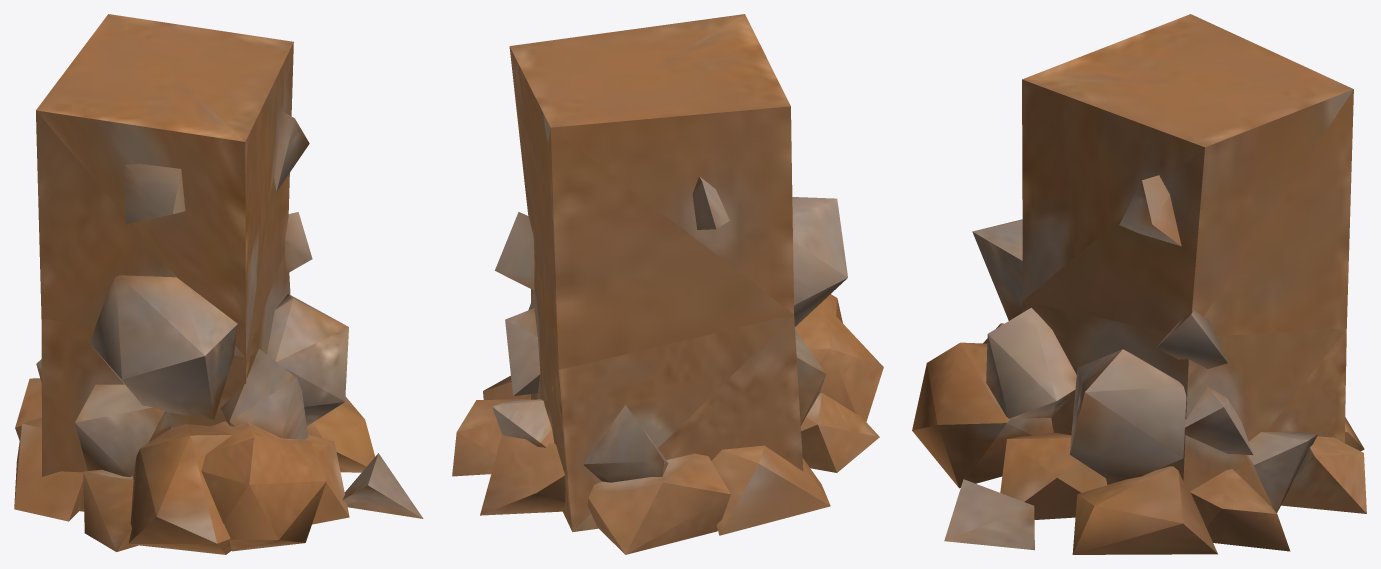
Rendered from bloque_tierra_2_250.glb.
3 renders of one model, left to right at view 1: azimuth 30°, elevation 25°; view 2: azimuth 150°, elevation 25°; view 3: azimuth 270°, elevation 25°, orthographic. The views are drawn at different scales.
Parts seen in each view (by area): view 1: bloque_tierra_2_malla; view 2: bloque_tierra_2_malla; view 3: bloque_tierra_2_malla.
Part boxes in pixels (box(x1,y1,x2,y2)): bloque_tierra_2_malla: box(14, 14, 423, 554); bloque_tierra_2_malla: box(452, 14, 883, 554); bloque_tierra_2_malla: box(912, 14, 1366, 554).
Size of the model in its own units: 0.1976 by 0.229 by 0.2298.
1 material, 1 textured.
